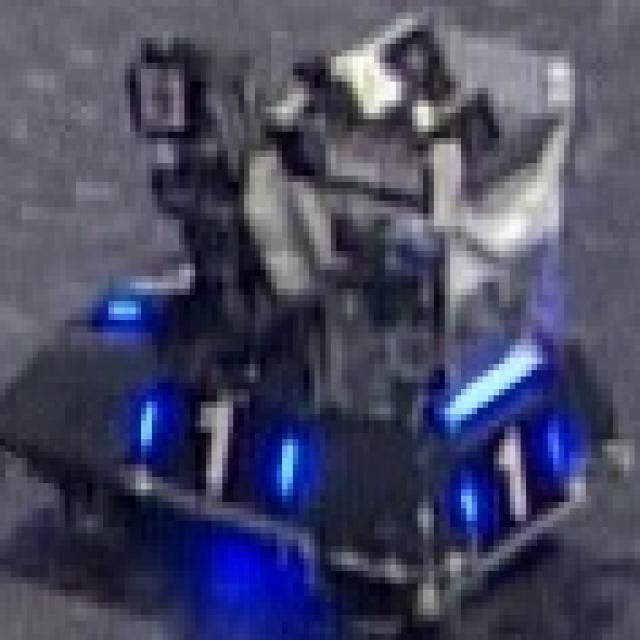B1: (117, 373, 301, 499), (442, 420, 578, 521), (76, 245, 201, 332)
